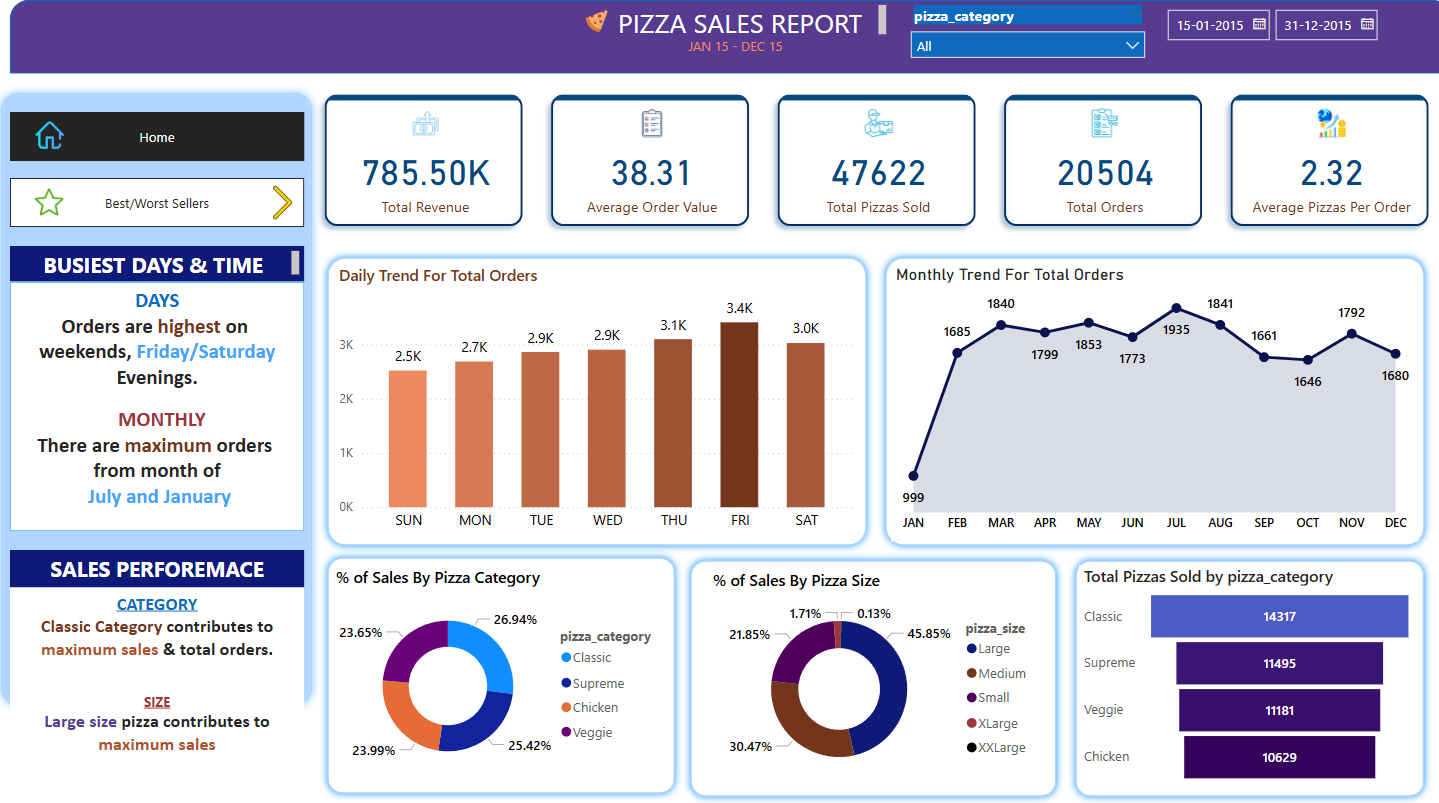

The dashboard page shown, as its layout file describes it:
{"tool":"powerbi","page":{"name":"Home","canvas":[1500,820],"ordinal":0},"visuals":[{"type":"cardVisual","fields":{"Data":["public pizza_sales.Total Revenue","public pizza_sales.Average Order Value","public pizza_sales.Total Pizzas Sold","public pizza_sales.Total Orders","public pizza_sales.Average Pizzas Per Order"]},"box":[317.5,75,1170,176.2],"z":0},{"type":"shape","box":[17.5,0,1470,75],"z":1000},{"type":"textbox","box":[686.4,32.6,141.8,32.6],"z":2000},{"type":"textbox","box":[616,0,299.9,42.8],"z":3000},{"type":"image","box":[572.2,5.1,87.7,32.6],"z":4000},{"type":"shape","box":[333.5,255,565,309],"z":5000},{"type":"columnChart","title":"Daily Trend For Total Orders","fields":{"Category":["public pizza_sales.Order Day"],"Y":["public pizza_sales.Total Orders"]},"box":[347.8,269.3,535.4,281.5],"z":6000},{"type":"shape","box":[902.6,255,565,309],"z":7000},{"type":"areaChart","title":"Monthly Trend For Total Orders","fields":{"Category":["public pizza_sales.Order Month"],"Y":["public pizza_sales.Total Orders"]},"box":[916.2,268.8,537.5,282.5],"z":8000},{"type":"shape","box":[703.8,563.8,388.8,256.2],"z":9000},{"type":"shape","box":[1096.2,563.8,371.2,256.2],"z":10000},{"type":"donutChart","title":"% of Sales By Pizza Size","fields":{"Category":["public pizza_sales.pizza_size"],"Y":["public pizza_sales.Total Revenue"]},"box":[728.8,580,347.5,223.8],"z":11000},{"type":"funnel","fields":{"Y":["public pizza_sales.Total Pizzas Sold"],"Category":["public pizza_sales.pizza_category"]},"box":[1107.5,576.2,346.2,227.5],"z":12000},{"type":"shape","box":[333.8,561.2,370,256.2],"z":13000},{"type":"donutChart","title":"% of Sales By Pizza Category","fields":{"Category":["public pizza_sales.pizza_category"],"Y":["public pizza_sales.Total Revenue"]},"box":[345,577.5,347.5,223.8],"z":14000},{"type":"shape","box":[0,86.2,333.8,641.2],"z":15000},{"type":"textbox","box":[17.5,287.5,300,253.8],"z":16000},{"type":"textbox","box":[17.5,251.2,300,36.2],"z":17000},{"type":"textbox","box":[17.5,598.8,300,205],"z":18000},{"type":"textbox","box":[17.5,561.2,300,37.5],"z":19000},{"type":"slicer","fields":{"Values":["public pizza_sales.pizza_category"]},"box":[926.2,0,258.8,63.8],"z":20000},{"type":"slicer","fields":{"Values":["public pizza_sales.order_date"]},"box":[1185,0,236.2,75],"z":21000},{"type":"pageNavigator","box":[17.5,113.8,300,50],"z":21001},{"type":"pageNavigator","box":[17.5,181.2,300,50],"z":21006},{"type":"image","box":[17.5,118.8,80,38.8],"z":21007},{"type":"image","box":[273.8,181.2,43.8,50],"z":21008},{"type":"image","box":[37.5,178.8,38.8,55],"z":21009}]}

Visuals, with their boxes in screenshot pixels (x1, y1, x2, y2), scaled from the page's 1500x820 canvas onto the 1439x803 screenshot:
cardVisual - public pizza_sales.Total Revenue x public pizza_sales.Average Order Value: bbox=(305, 73, 1427, 246)
shape: bbox=(17, 0, 1427, 73)
textbox: bbox=(658, 32, 795, 64)
textbox: bbox=(591, 0, 879, 42)
image: bbox=(549, 5, 633, 37)
shape: bbox=(320, 250, 862, 552)
"Daily Trend For Total Orders" columnChart: bbox=(334, 264, 847, 539)
shape: bbox=(866, 250, 1408, 552)
"Monthly Trend For Total Orders" areaChart: bbox=(879, 263, 1395, 540)
shape: bbox=(675, 552, 1048, 802)
shape: bbox=(1052, 552, 1408, 802)
"% of Sales By Pizza Size" donutChart: bbox=(699, 568, 1033, 787)
funnel - public pizza_sales.Total Pizzas Sold x public pizza_sales.pizza_category: bbox=(1062, 564, 1395, 787)
shape: bbox=(320, 550, 675, 800)
"% of Sales By Pizza Category" donutChart: bbox=(331, 566, 664, 785)
shape: bbox=(0, 84, 320, 712)
textbox: bbox=(17, 282, 305, 530)
textbox: bbox=(17, 246, 305, 281)
textbox: bbox=(17, 586, 305, 787)
textbox: bbox=(17, 550, 305, 586)
slicer - public pizza_sales.pizza_category: bbox=(889, 0, 1137, 62)
slicer - public pizza_sales.order_date: bbox=(1137, 0, 1363, 73)
pageNavigator: bbox=(17, 111, 305, 160)
pageNavigator: bbox=(17, 177, 305, 226)
image: bbox=(17, 116, 94, 154)
image: bbox=(263, 177, 305, 226)
image: bbox=(36, 175, 73, 229)
